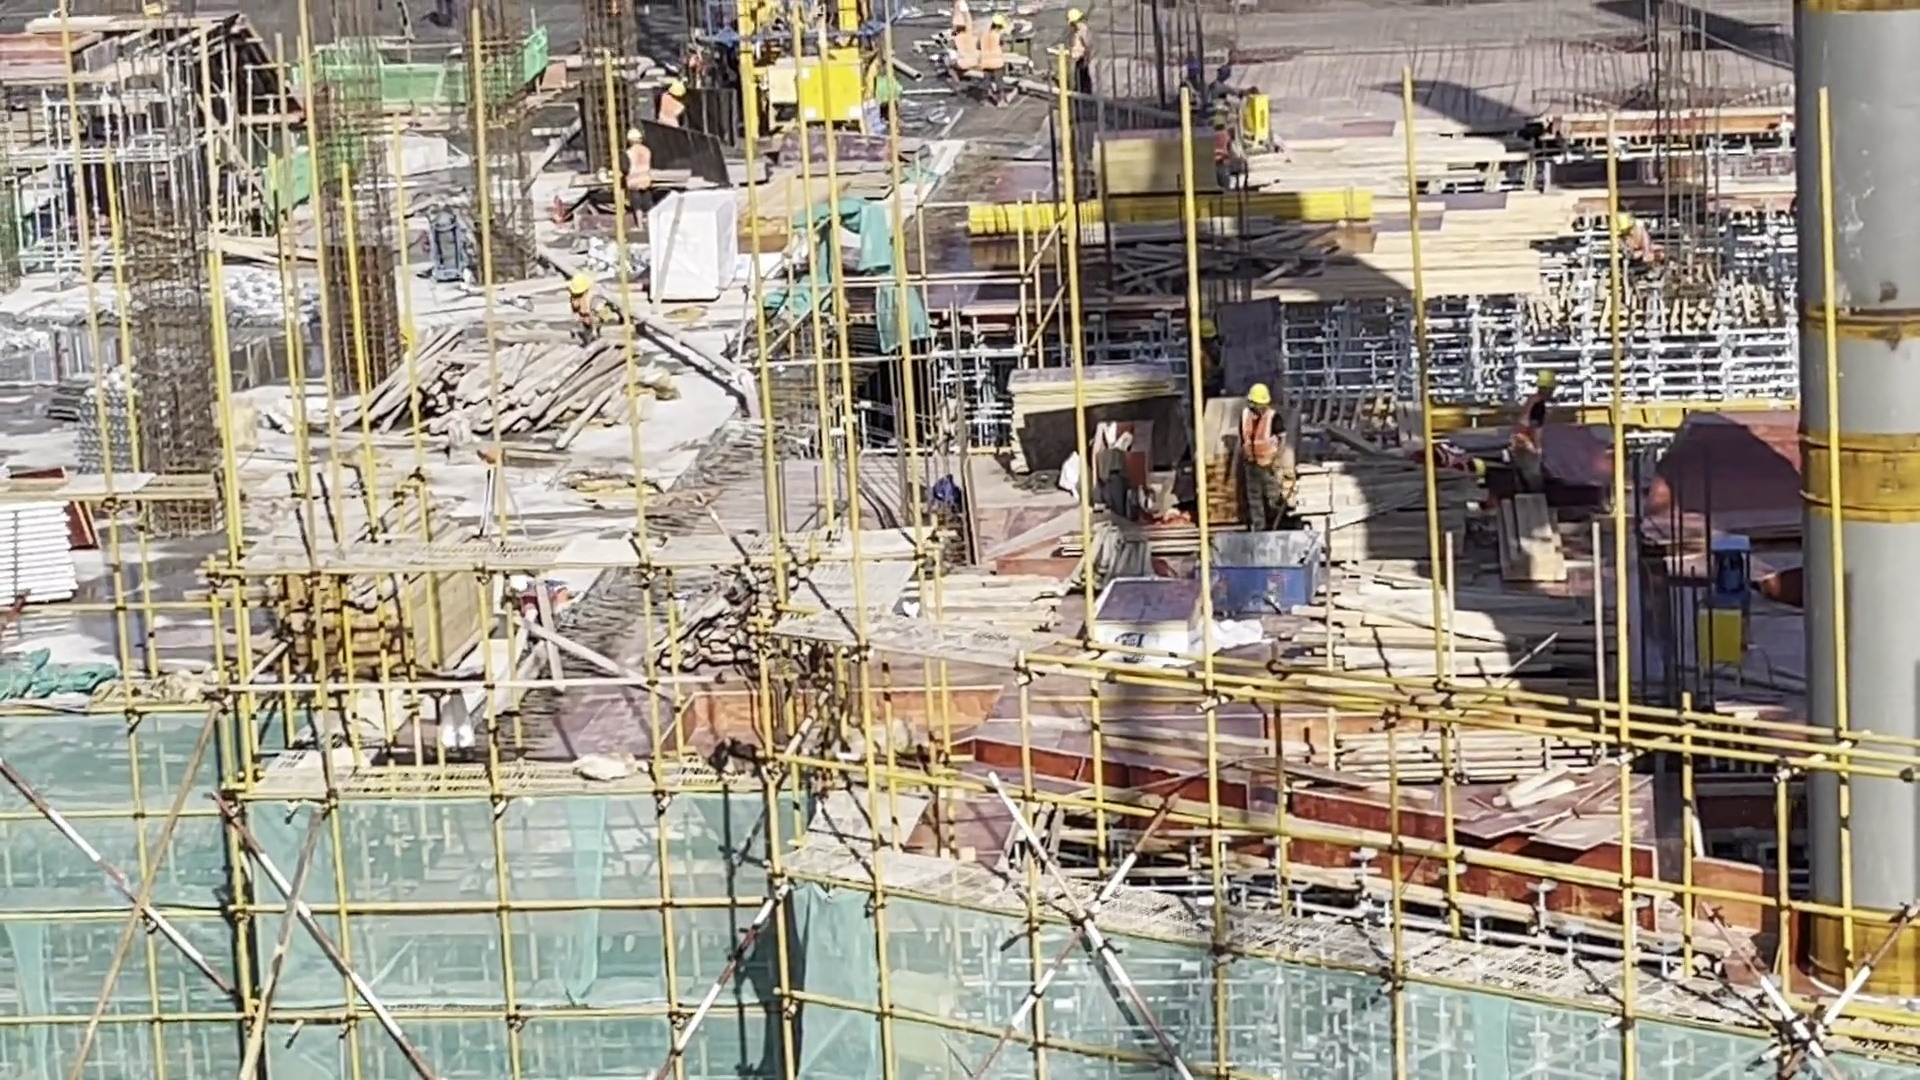board: (993, 356, 1186, 474), (1090, 129, 1202, 194)
helmet: (563, 271, 597, 300), (1242, 385, 1275, 410), (1528, 369, 1558, 395), (1195, 316, 1220, 346), (1066, 4, 1089, 32), (1614, 211, 1636, 236), (665, 80, 685, 99), (626, 127, 643, 146)
hopper: (1212, 530, 1327, 613)
person: (1231, 379, 1293, 545), (1511, 369, 1559, 504), (558, 259, 615, 352), (1059, 1, 1105, 104), (1616, 202, 1658, 305), (1205, 101, 1248, 195), (980, 13, 1015, 119), (625, 118, 655, 240), (1192, 312, 1230, 405), (943, 12, 980, 88), (656, 81, 690, 140)
vest: (1236, 409, 1286, 469), (1509, 389, 1547, 464), (627, 146, 653, 196), (659, 92, 688, 136), (981, 28, 1005, 78), (1206, 129, 1234, 170), (953, 35, 983, 73)
wood: (279, 494, 469, 687), (1331, 576, 1608, 688), (1498, 492, 1576, 592)
